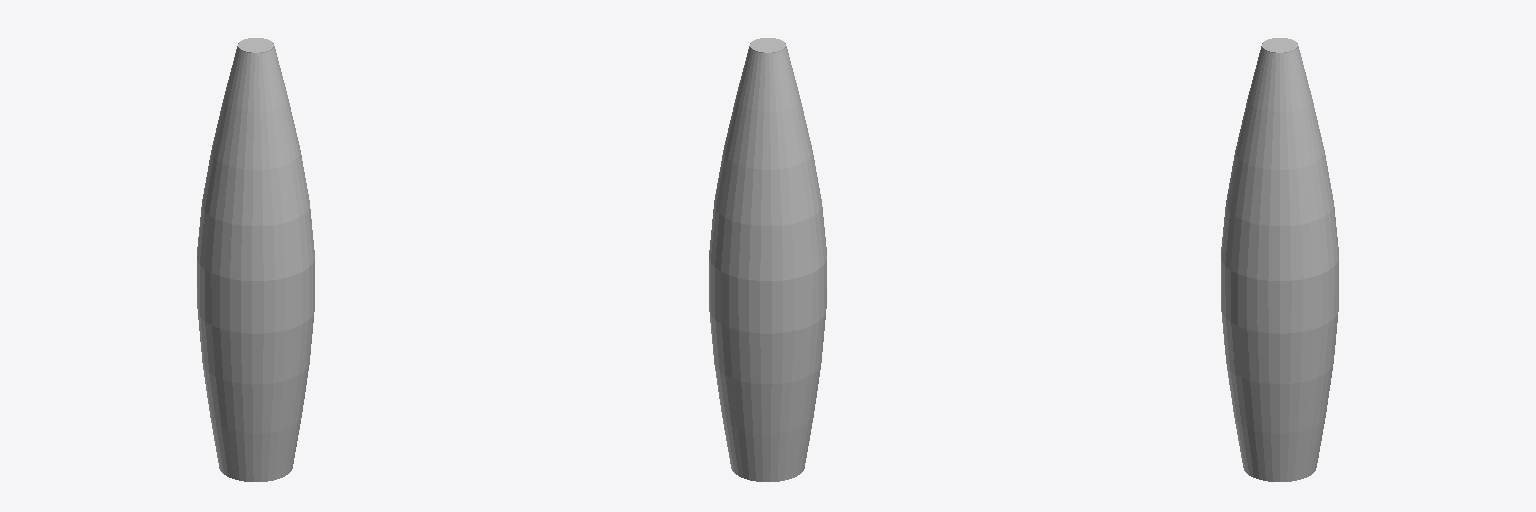
3 views of the same model, side by side, from view 1: azimuth 30°, elevation 25°; view 2: azimuth 150°, elevation 25°; view 3: azimuth 270°, elevation 25° (orthographic).
Visible parts, largest first — view 1: Effects 02; view 2: Effects 02; view 3: Effects 02.
Boxes of the visible parts, x1=… form: Effects 02: x1=197, y1=43, x2=314, y2=481; Effects 02: x1=709, y1=43, x2=826, y2=481; Effects 02: x1=1221, y1=43, x2=1338, y2=481.
Bounding box in the file's own units: 10600 × 41508 × 10600.